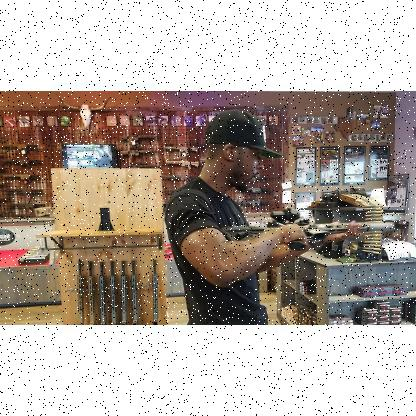gun: (220, 213, 398, 253), (162, 144, 197, 158), (1, 142, 49, 152), (2, 156, 40, 168), (0, 201, 44, 211), (116, 146, 158, 156), (164, 158, 198, 170), (119, 132, 158, 142)
